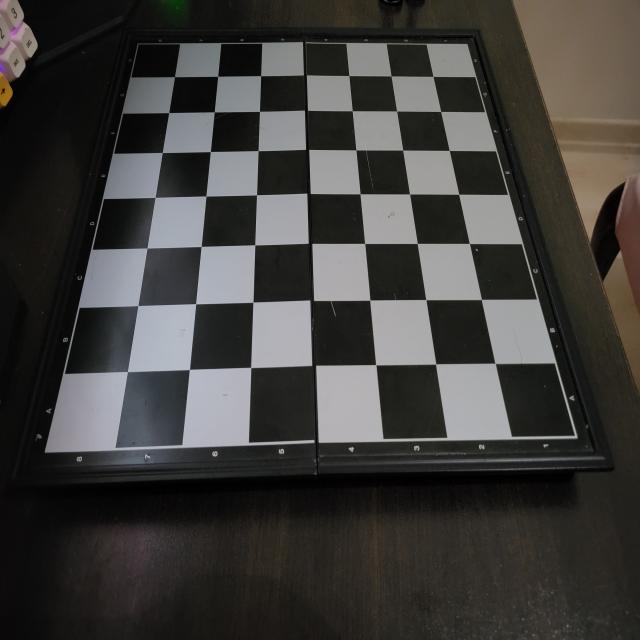chess-board: (36, 23, 594, 470)
